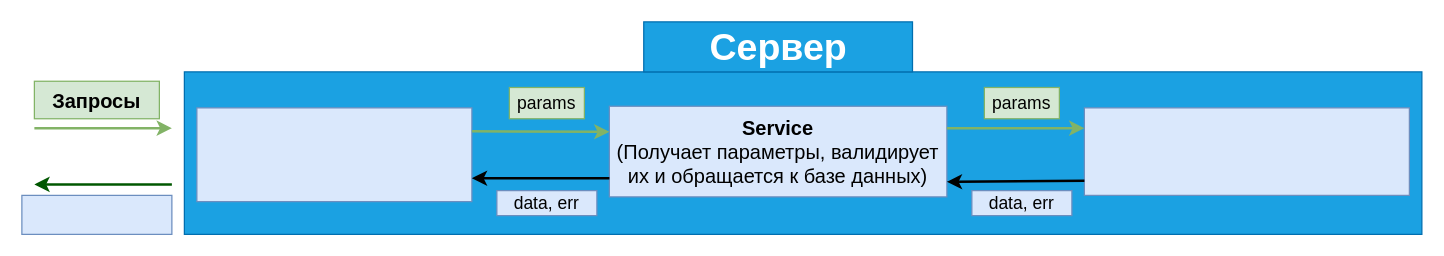
Image size: 1444x256. Some labels were removed from this diagram. The box of each missing label's shape, as (x1, y1, x2, y2) in pixels:
API (Принимает запросы и формирует параметры): (196, 107, 472, 202)
Database (Получает параметры от сервиса и выполняет запросы к БД): (1083, 107, 1409, 195)
Ответ сервера: (21, 194, 172, 234)
